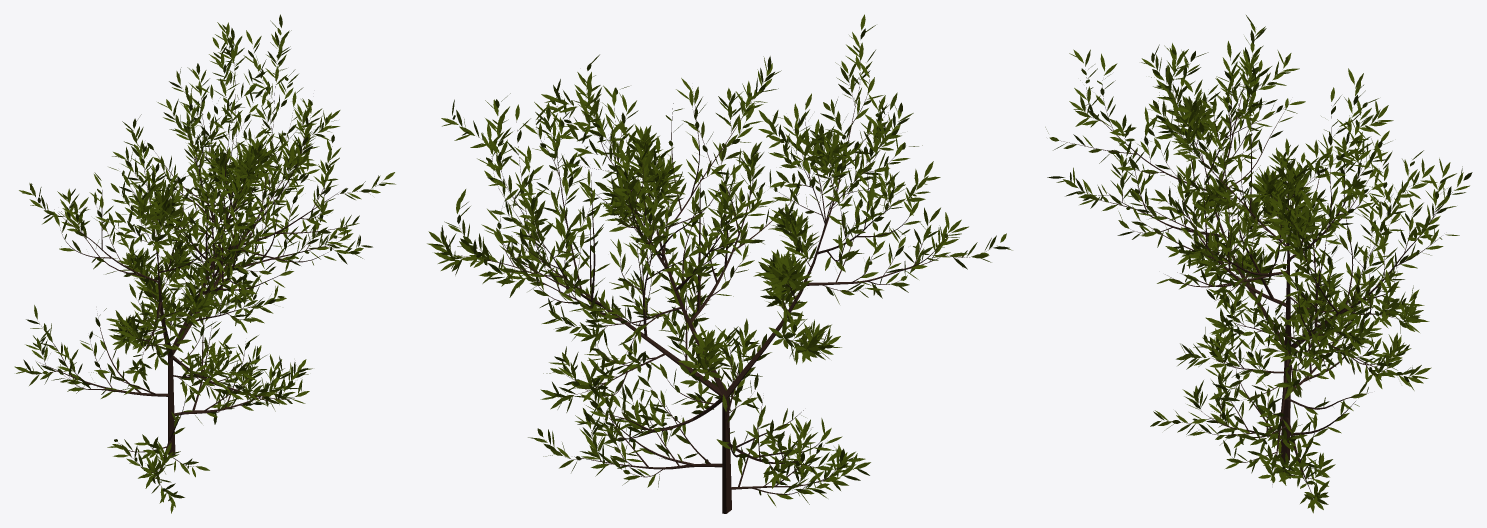
File: bush.obj
3 views of the same model, side by side, from view 1: azimuth 30°, elevation 25°; view 2: azimuth 150°, elevation 25°; view 3: azimuth 270°, elevation 25° (orthographic). The views are drawn at different scales.
Parts seen in each view (by area): view 1: bush_leaves; view 2: bush_leaves; view 3: bush_leaves.
Boxes of the visible parts, bbox=[...] form: bush_leaves: bbox=[14, 14, 395, 513]; bush_leaves: bbox=[427, 14, 1012, 513]; bush_leaves: bbox=[1045, 15, 1472, 513].
Bounding box in the file's own units: 3.21 × 3.3 × 2.94.
